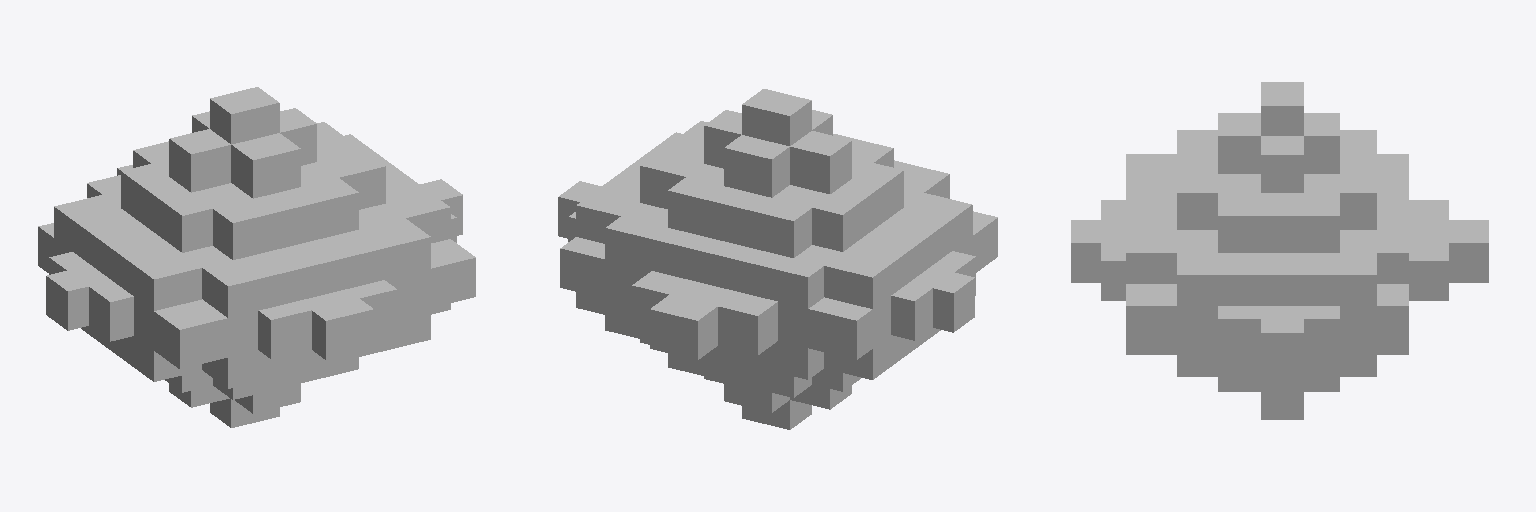
File: Meteor2.obj
The picture shows the model from 3 angles: view 1: azimuth 30°, elevation 25°; view 2: azimuth 150°, elevation 25°; view 3: azimuth 270°, elevation 25°; orthographic projection.
Visible parts, largest first — view 1: Meteor2_Cube.001; view 2: Meteor2_Cube.001; view 3: Meteor2_Cube.001.
Boxes of the visible parts, x1,y1,x2,y2 form: Meteor2_Cube.001: [38, 87, 475, 427]; Meteor2_Cube.001: [558, 89, 997, 429]; Meteor2_Cube.001: [1071, 82, 1488, 419].
Size of the model in its own units: 7.63 by 5.79 by 6.98.